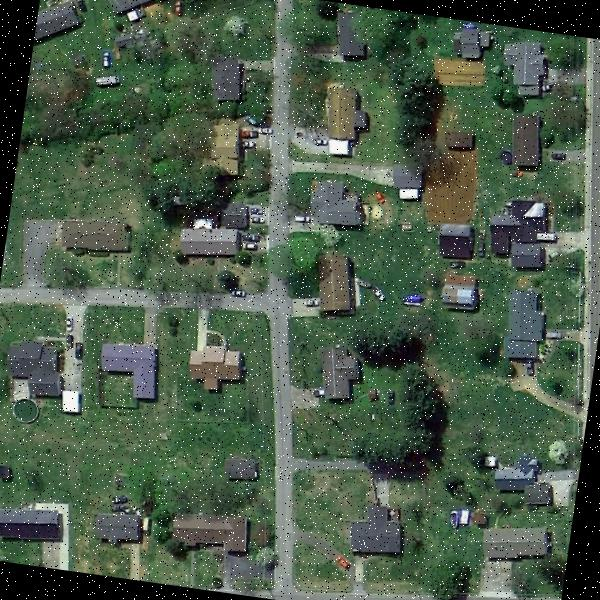Buildings: (86, 339, 166, 401), (492, 202, 560, 267), (2, 338, 66, 398), (166, 510, 249, 556), (302, 176, 367, 229), (64, 210, 130, 262), (347, 505, 402, 560), (485, 525, 553, 568), (500, 290, 540, 363), (496, 39, 552, 88), (327, 74, 367, 141), (314, 244, 353, 310), (189, 352, 246, 395), (181, 226, 244, 262), (0, 506, 61, 543), (510, 107, 545, 169), (318, 348, 361, 398), (34, 1, 74, 44), (90, 518, 139, 546), (101, 0, 154, 11)
